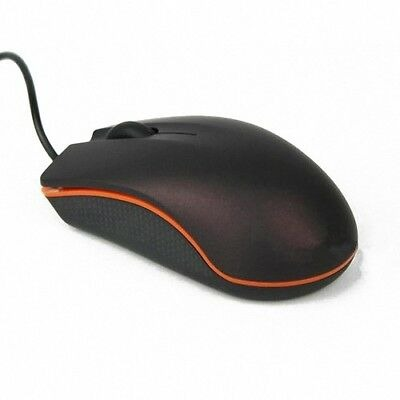mouse: (46, 110, 360, 308)
